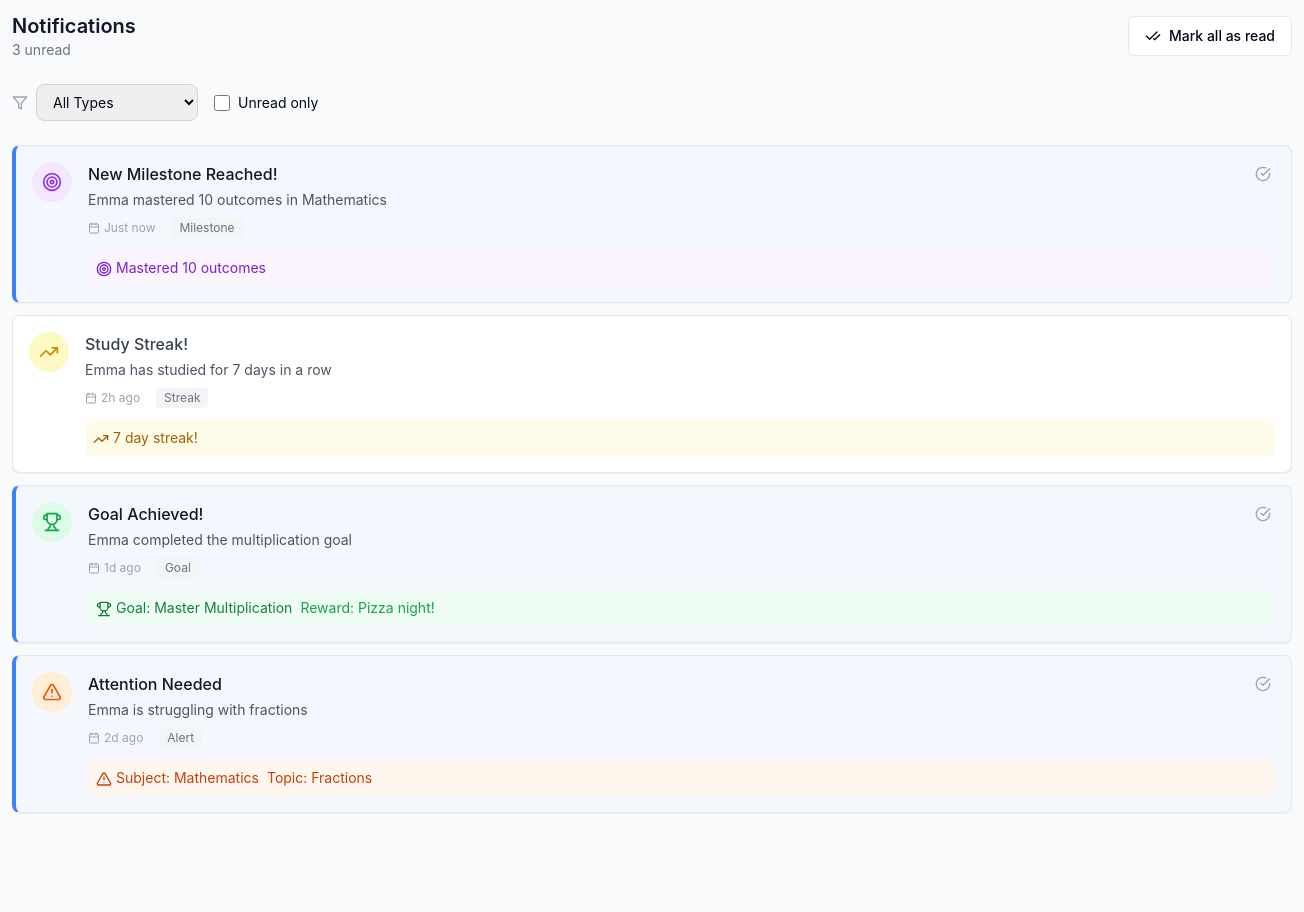
Test: NotificationsTab › filtering › filters notifications by type
Select "Milestones" in the dropdown named "Filter notifications by type" at (117, 102), box [36,84,198,121]
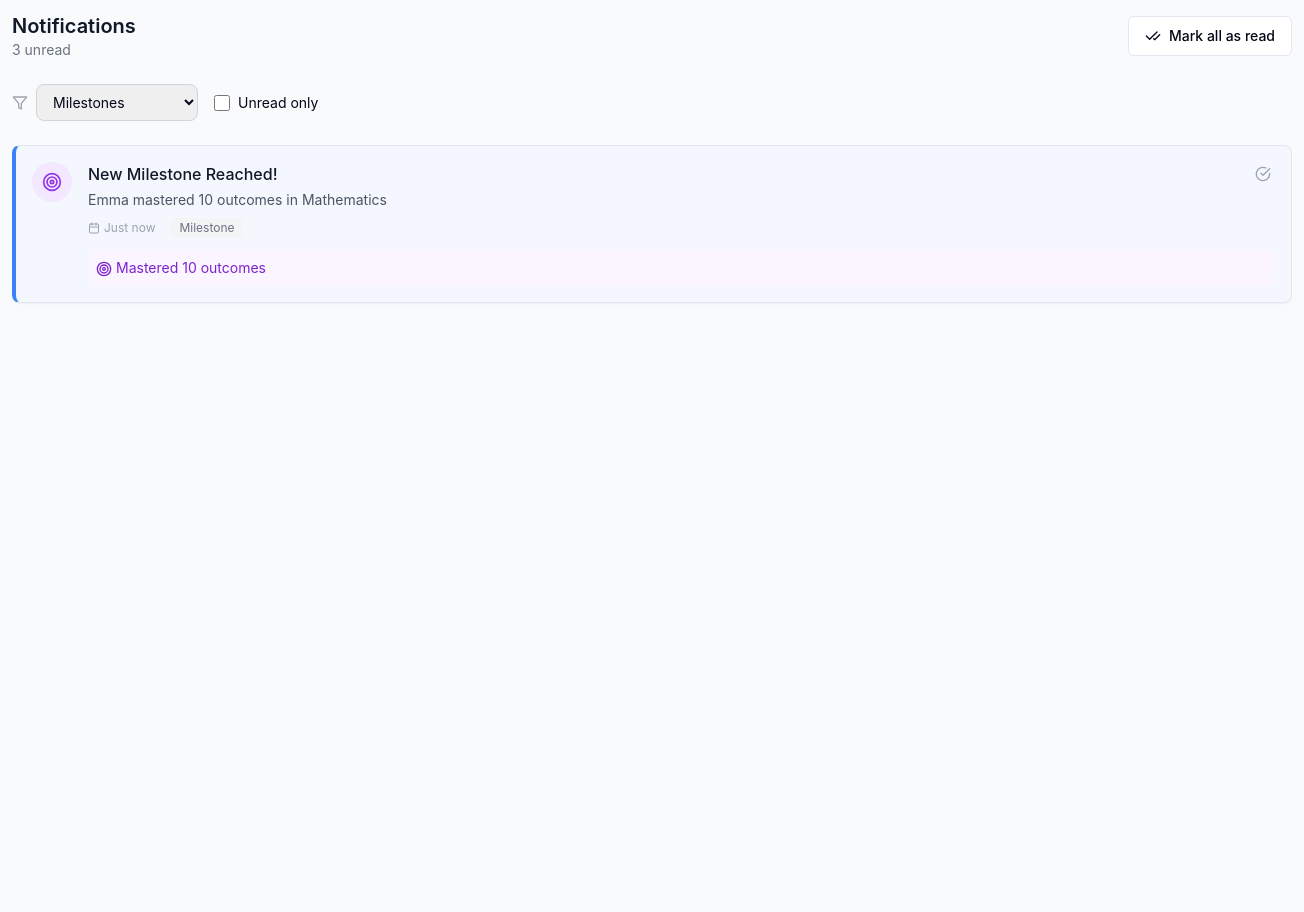
Expected: the heading "New Milestone Reached!" is shown, [88,164,278,184]
Expected: the heading "Study Streak!" is gone
